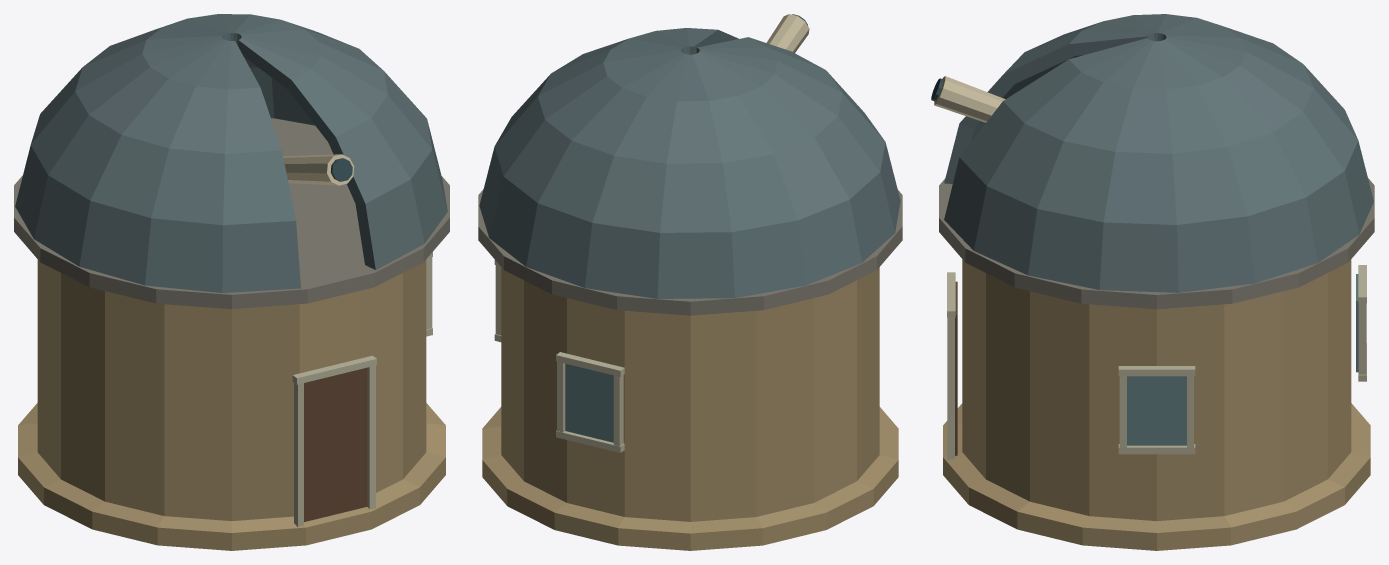
Rendered from Building_Landmark_Observatory_001_LOD1.glb.
3 views of the same model, side by side, from view 1: azimuth 30°, elevation 25°; view 2: azimuth 150°, elevation 25°; view 3: azimuth 270°, elevation 25° (orthographic). The views are drawn at different scales.
Parts seen in each view (by area): view 1: Building_Landmark_Observatory_001_LOD1; view 2: Building_Landmark_Observatory_001_LOD1; view 3: Building_Landmark_Observatory_001_LOD1.
Part boxes in pixels (x1=…): Building_Landmark_Observatory_001_LOD1: x1=14, y1=14, x2=449, y2=550; Building_Landmark_Observatory_001_LOD1: x1=478, y1=14, x2=902, y2=550; Building_Landmark_Observatory_001_LOD1: x1=931, y1=14, x2=1374, y2=550.
Size of the model in its own units: 5.6 by 5.9 by 5.61.
